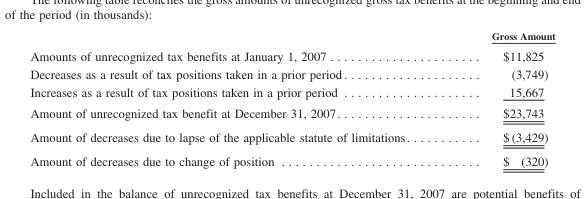table: (29, 29, 554, 167)
table column: (29, 29, 449, 167), (449, 29, 554, 167)
table column header: (29, 29, 554, 45)
table row: (29, 124, 554, 148), (29, 102, 554, 124), (29, 82, 554, 102), (29, 45, 554, 64), (29, 148, 554, 167), (29, 64, 554, 82), (29, 29, 554, 45)
